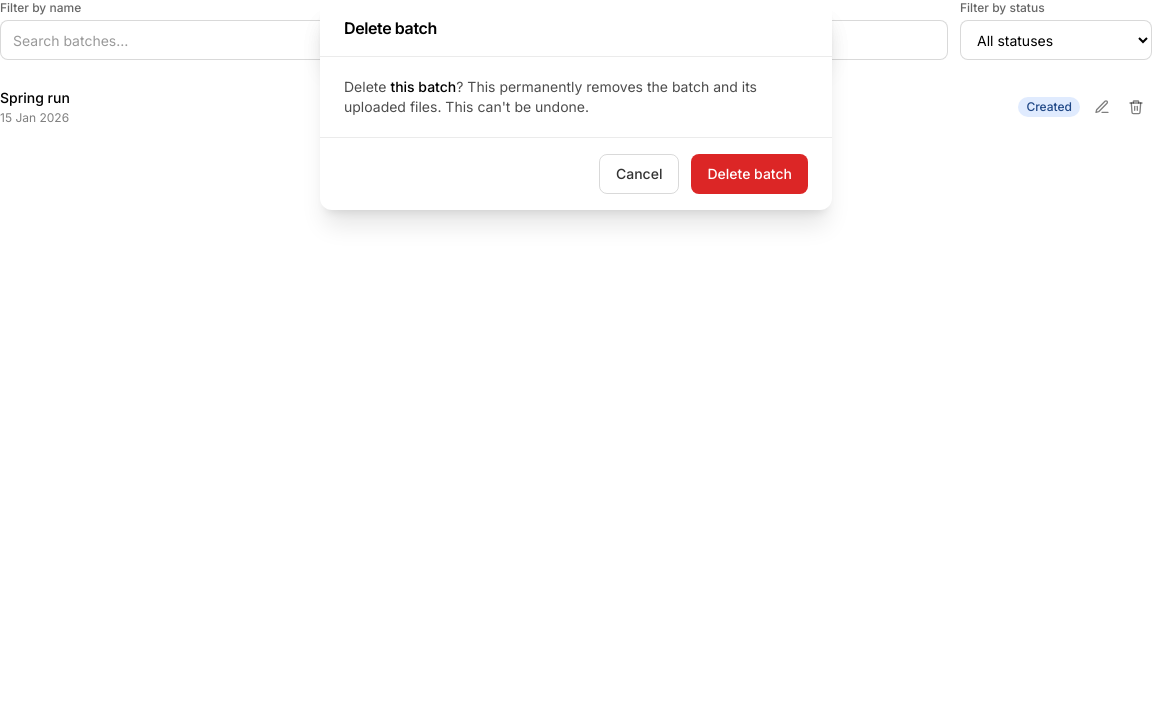
BatchesList › row actions › opens the delete confirmation for the clicked row, naming the batch
Step 1. Click the button named "Delete Spring run" → point(1136, 107), box [1120,91,1151,123]
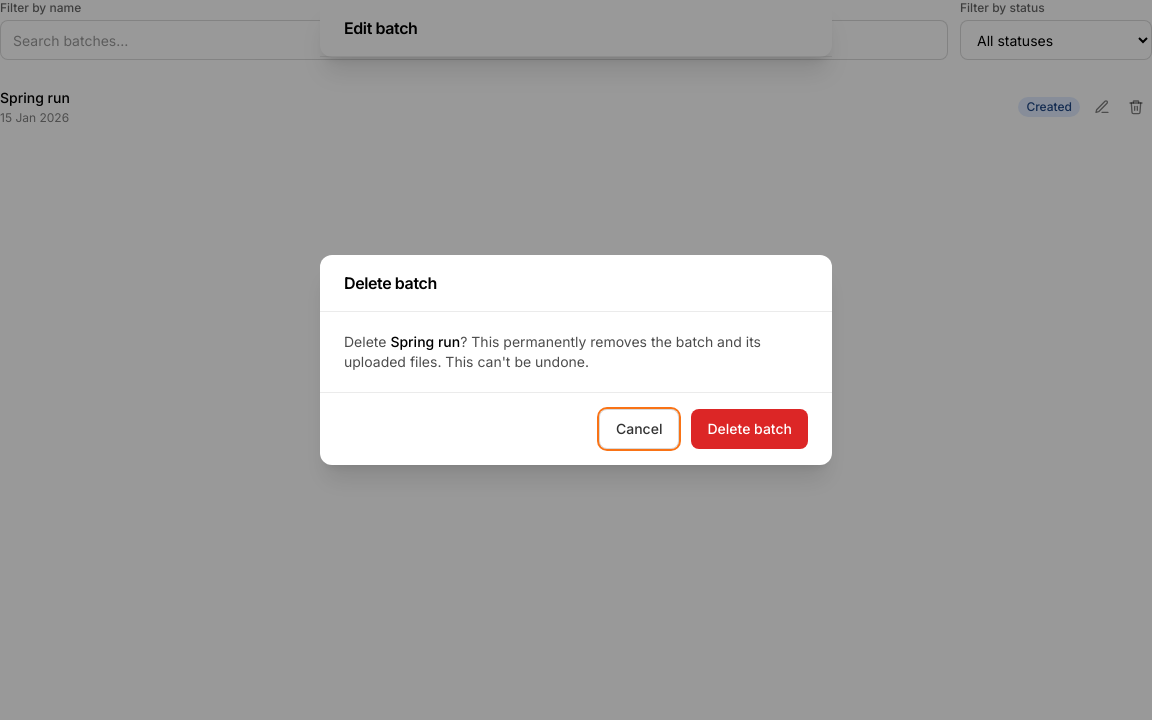
Expected: the dialog "Delete batch" is shown, [320,255,832,465]
Expected: the text "Spring run" is shown, [390,333,460,350]
